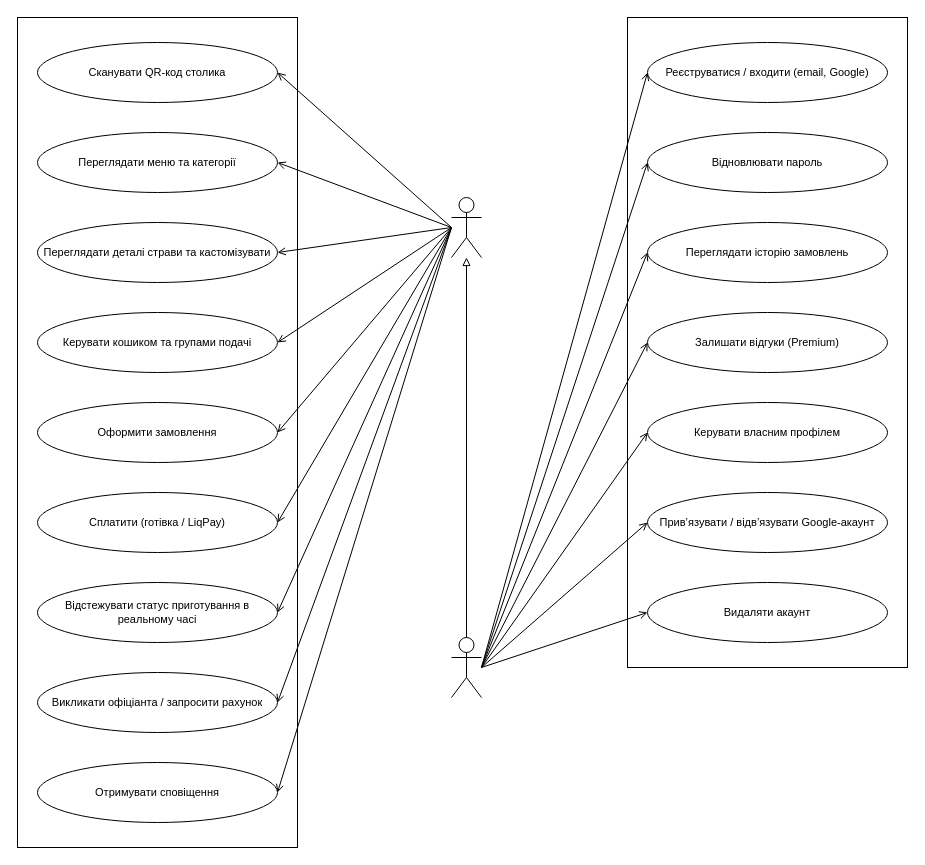
The diagram is 925 pixels wide and 865 high, and some of its shapes have lost their labels. Here are the shapes that lost their labels. From the top down, the centre of each, then its label:
At point 466,227: "Гість (неавторизований)".
At point 466,667: "Авторизований гість".
